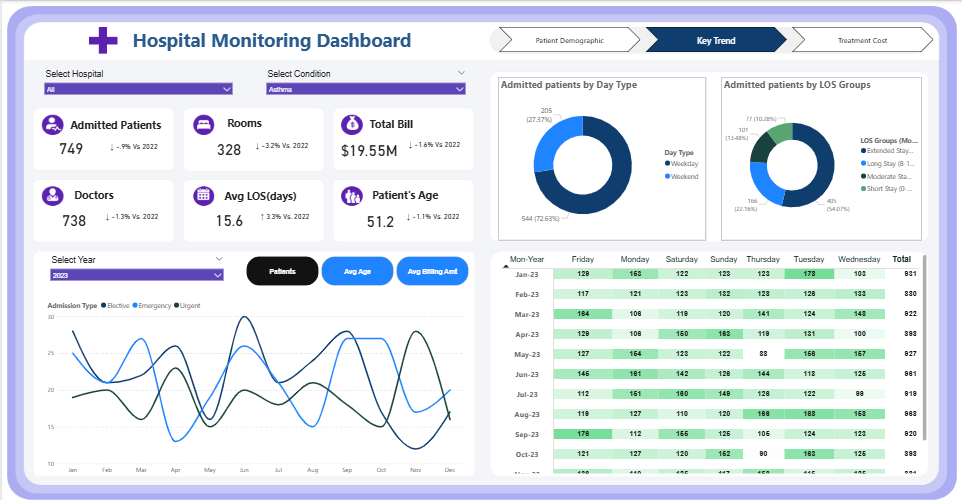

Layout of this report page (visuals, bound fields, positions):
{"tool":"powerbi","page":{"name":"Key Trend","canvas":[1920,1010],"ordinal":1},"visuals":[{"type":"card","fields":{"Values":["_DAXmeasure.Admitted patients"]},"box":[68.8,252.5,140,83.8],"z":0},{"type":"textbox","box":[114,228,226,40],"z":1000},{"type":"textbox","box":[256,46,798,66],"z":2000},{"type":"slicer","fields":{"Values":["HealthStatData.Hospital"]},"box":[73.3,130,398.3,70],"z":3000},{"type":"slicer","fields":{"Values":["Dim_Condition.Medical Condition"]},"box":[518.3,130,420,70],"z":4000},{"type":"card","fields":{"Values":["_DAXmeasure.Adm YoY"]},"box":[188.3,241.7,151.7,98.3],"z":5000},{"type":"lineChart","fields":{"Y":["_DAXmeasure.Admitted patients"],"Category":["Dim_Date.Month Name"],"Series":["HealthStatData.Admission Type"]},"box":[86.9,587.8,842.3,367.6],"z":6000},{"type":"advancedSlicerVisual","fields":{"Values":["Parameter 2.Parameter"]},"box":[484.8,505,454.5,68.7],"z":7000},{"type":"card","fields":{"Values":["_DAXmeasure.Rooms"]},"box":[383.8,254.4,140,83.8],"z":8000},{"type":"textbox","box":[421.5,224.2,226,40],"z":9000},{"type":"card","fields":{"Values":["_DAXmeasure.Rooms YoY"]},"box":[484.6,239.8,151.7,98.3],"z":10000},{"type":"card","fields":{"Values":["_DAXmeasure.Total Billing"]},"box":[663.8,256.2,140,83.8],"z":11000},{"type":"textbox","box":[729,226.1,226,40],"z":12000},{"type":"card","fields":{"Values":["_DAXmeasure.Bill YoY"]},"box":[773.8,237.5,181.2,98.8],"z":13000},{"type":"card","fields":{"Values":["_DAXmeasure.Avg LOS"]},"box":[383.8,395,140,83.8],"z":14000},{"type":"textbox","box":[415.2,369.2,226,40],"z":15000},{"type":"card","fields":{"Values":["_DAXmeasure.Avg LOS YoY"]},"box":[489.6,382.9,151.7,98.3],"z":16000},{"type":"card","fields":{"Values":["_DAXmeasure.Doctors"]},"box":[73.8,395,140,83.8],"z":17000},{"type":"textbox","box":[110.2,368.6,226,40],"z":18000},{"type":"card","fields":{"Values":["_DAXmeasure.Doctors YoY"]},"box":[184.6,381.7,151.7,98.3],"z":19000},{"type":"card","fields":{"Values":["_DAXmeasure.Avg Age"]},"box":[685,397.5,140,83.8],"z":20000},{"type":"textbox","box":[711.5,368,226,40],"z":21000},{"type":"card","fields":{"Values":["_DAXmeasure.Avg Age YoY"]},"box":[785.8,381.7,151.7,98.3],"z":22000},{"type":"pivotTable","fields":{"Values":["_DAXmeasure.Admitted patients"],"Rows":["Dim_Date.Mon-Year"],"Columns":["Dim_Date.Day Name"]},"box":[991.8,503,862.5,448.4],"z":23000},{"type":"slicer","fields":{"Values":["Dim_Date.Year"]},"box":[86.9,503,367.6,70.7],"z":24000},{"type":"donutChart","fields":{"Category":["Dim_Date.Day Type"],"Y":["_DAXmeasure.Admitted patients"]},"box":[991.8,151.5,416.1,327.2],"z":25000},{"type":"donutChart","title":"Admitted patients by LOS Groups","fields":{"Y":["_DAXmeasure.Admitted patients"],"Category":["HealthStatData.LOS Groups (Modified)"]},"box":[1438.2,151.5,402,327.2],"z":26000},{"type":"pageNavigator","box":[994,52,870,50],"z":27000}]}

Visuals, with their boxes in screenshot pixels (x1, y1, x2, y2), scaled from the page's 1920x1010 canvas onto the 962x500 screenshot:
card - _DAXmeasure.Admitted patients: (x1=34, y1=125, x2=105, y2=166)
textbox: (x1=57, y1=113, x2=170, y2=133)
textbox: (x1=128, y1=23, x2=528, y2=55)
slicer - HealthStatData.Hospital: (x1=37, y1=64, x2=236, y2=99)
slicer - Dim_Condition.Medical Condition: (x1=260, y1=64, x2=470, y2=99)
card - _DAXmeasure.Adm YoY: (x1=94, y1=120, x2=170, y2=168)
lineChart - _DAXmeasure.Admitted patients x Dim_Date.Month Name: (x1=44, y1=291, x2=466, y2=473)
advancedSlicerVisual - Parameter 2.Parameter: (x1=243, y1=250, x2=471, y2=284)
card - _DAXmeasure.Rooms: (x1=192, y1=126, x2=262, y2=167)
textbox: (x1=211, y1=111, x2=324, y2=131)
card - _DAXmeasure.Rooms YoY: (x1=243, y1=119, x2=319, y2=167)
card - _DAXmeasure.Total Billing: (x1=333, y1=127, x2=403, y2=168)
textbox: (x1=365, y1=112, x2=478, y2=132)
card - _DAXmeasure.Bill YoY: (x1=388, y1=118, x2=478, y2=166)
card - _DAXmeasure.Avg LOS: (x1=192, y1=196, x2=262, y2=237)
textbox: (x1=208, y1=183, x2=321, y2=203)
card - _DAXmeasure.Avg LOS YoY: (x1=245, y1=190, x2=321, y2=238)
card - _DAXmeasure.Doctors: (x1=37, y1=196, x2=107, y2=237)
textbox: (x1=55, y1=182, x2=168, y2=202)
card - _DAXmeasure.Doctors YoY: (x1=92, y1=189, x2=169, y2=238)
card - _DAXmeasure.Avg Age: (x1=343, y1=197, x2=413, y2=238)
textbox: (x1=356, y1=182, x2=470, y2=202)
card - _DAXmeasure.Avg Age YoY: (x1=394, y1=189, x2=470, y2=238)
pivotTable - _DAXmeasure.Admitted patients x Dim_Date.Mon-Year: (x1=497, y1=249, x2=929, y2=471)
slicer - Dim_Date.Year: (x1=44, y1=249, x2=228, y2=284)
donutChart - Dim_Date.Day Type x _DAXmeasure.Admitted patients: (x1=497, y1=75, x2=705, y2=237)
"Admitted patients by LOS Groups" donutChart: (x1=721, y1=75, x2=922, y2=237)
pageNavigator: (x1=498, y1=26, x2=934, y2=50)
